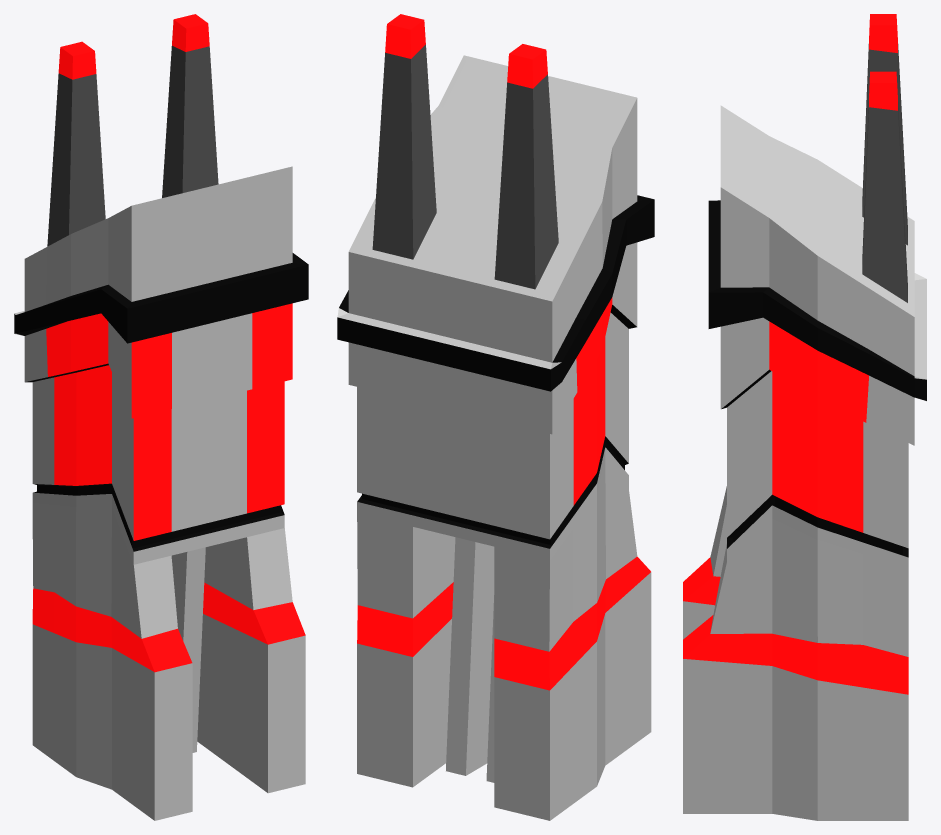
Rendered from scifi-lowpoly-building3.fbx.
3 renders of one model, left to right at view 1: azimuth 30°, elevation 25°; view 2: azimuth 150°, elevation 25°; view 3: azimuth 270°, elevation 25°, orthographic. The views are drawn at different scales.
Parts seen in each view (by area): view 1: gebouw 1; view 2: gebouw 1; view 3: gebouw 1.
Boxes of the visible parts, bbox=[...] form: gebouw 1: bbox=[14, 14, 308, 820]; gebouw 1: bbox=[337, 14, 654, 820]; gebouw 1: bbox=[683, 14, 926, 820].
Size of the model in its own units: 25.46 by 81.83 by 24.82.
